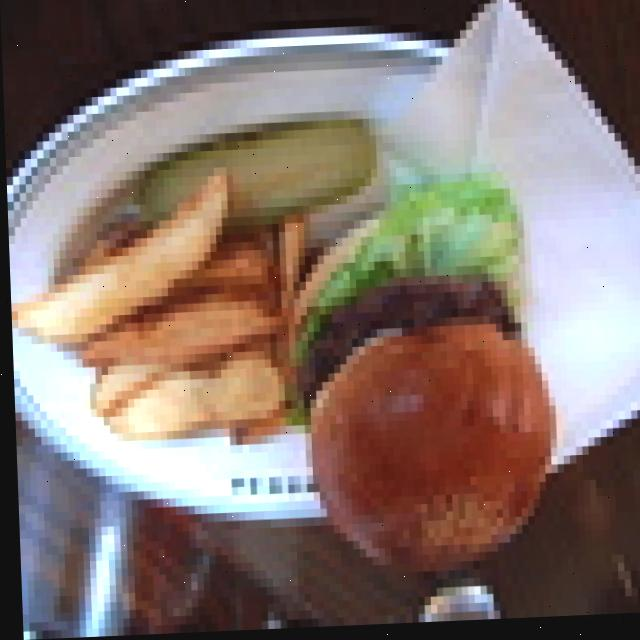汉堡快餐: (282, 191, 570, 605)
炸货点心: (6, 192, 322, 472)
